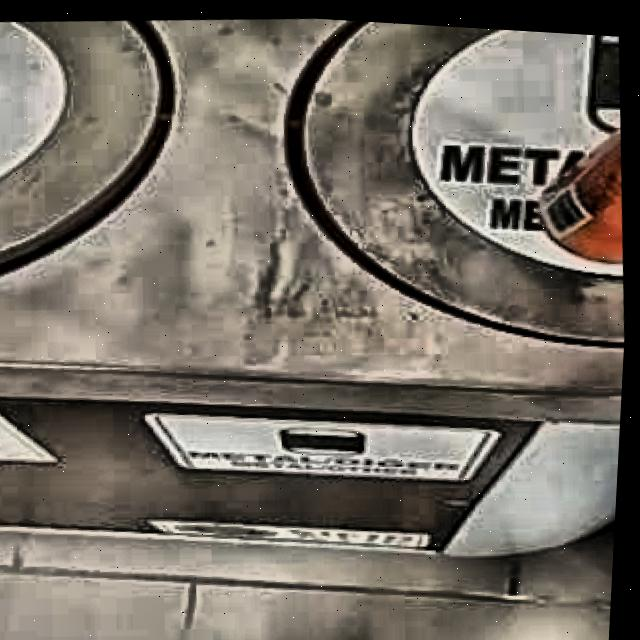metal: (544, 122, 625, 253)
